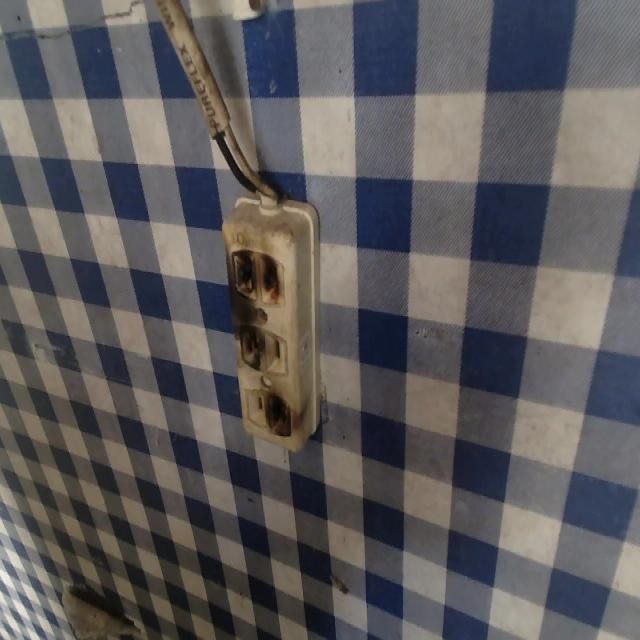-: (223, 236, 297, 308), (261, 380, 298, 443), (233, 323, 268, 376)
